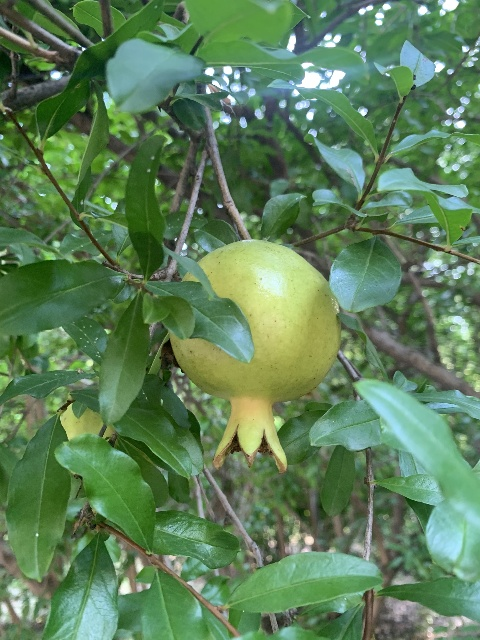mid-growth: (168, 240, 341, 475)
